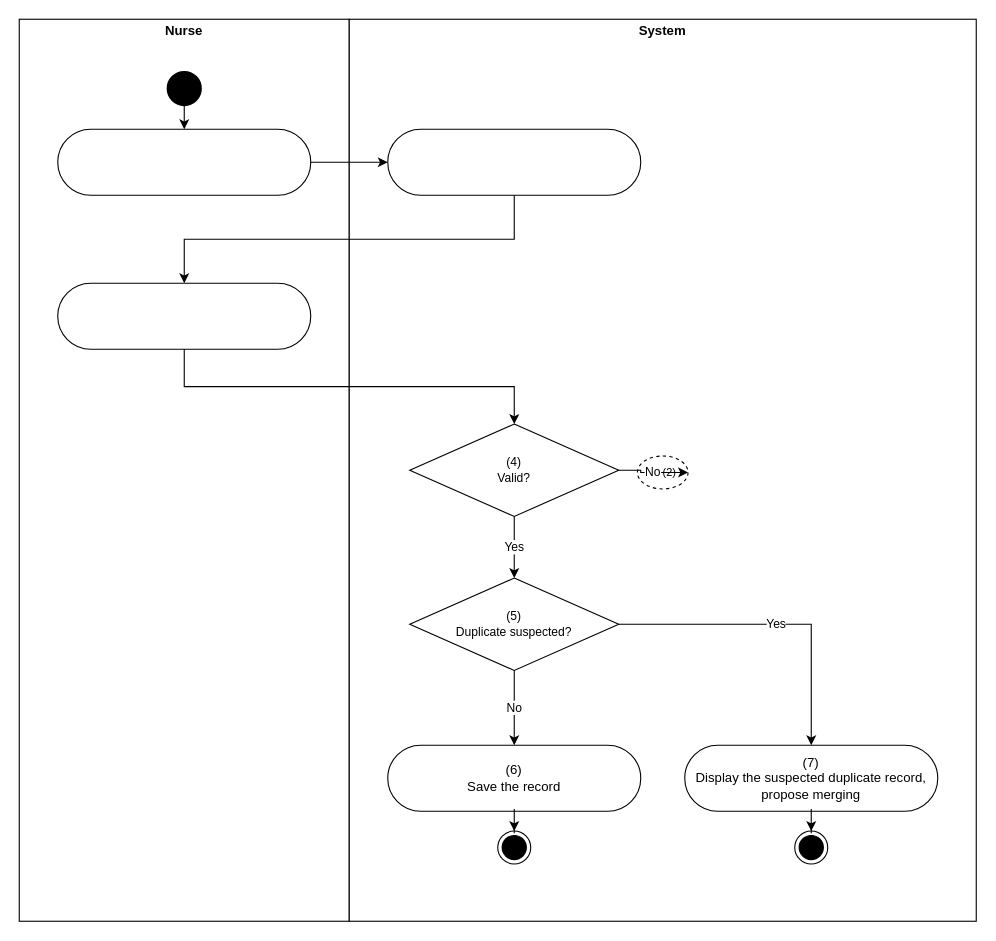
The diagram is 996 pixels wide and 941 high, and some of its shapes have lost their labels. The centre of each missing label's shape, as x and y in pixels:
(1) Click "Create record": [184,161]
(2) Display the record form: [514,161]
(3) Enter information, verify documents, click "Save": [184,315]
